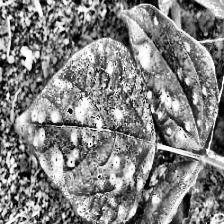Bean Rust: (11, 16, 153, 224), (120, 0, 217, 162), (113, 149, 208, 224), (180, 0, 224, 25)
